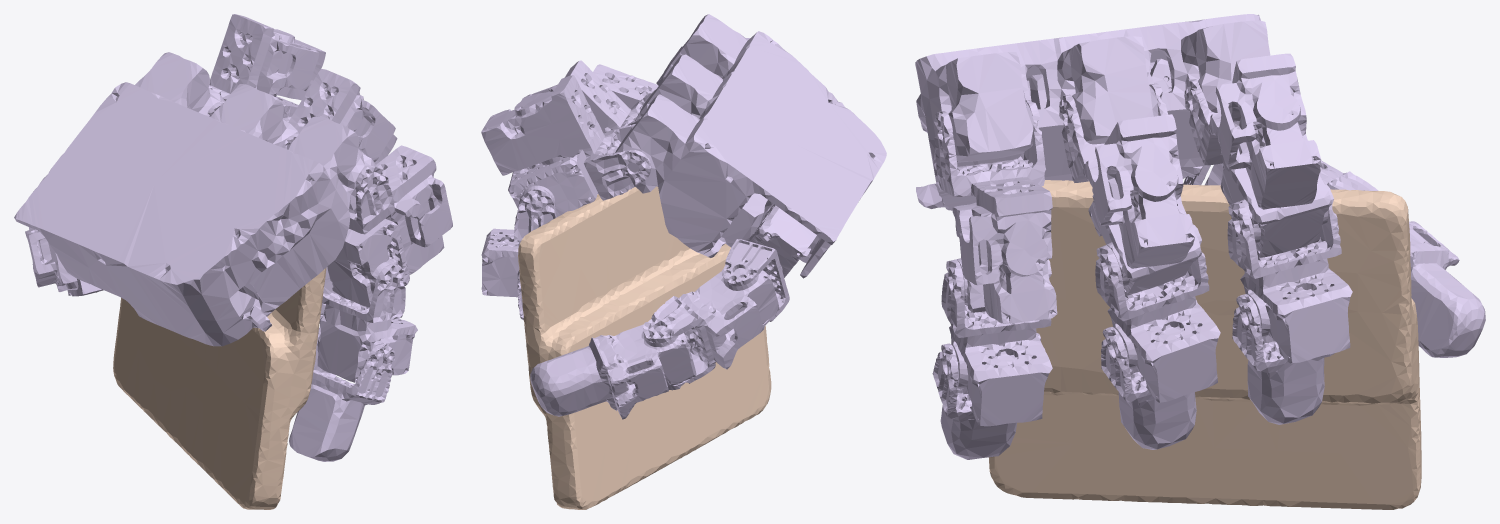
File: 376270dcf8c7b7-final.glb
The picture shows the model from 3 angles, left to right: view 1: azimuth 30°, elevation 25°; view 2: azimuth 150°, elevation 25°; view 3: azimuth 270°, elevation 25°; orthographic projection. The views are drawn at different scales.
Parts seen in each view (by area): view 1: LEAP_hand, world; view 2: LEAP_hand, world; view 3: LEAP_hand, world.
Boxes of the visible parts, bbox=[...] form: LEAP_hand: bbox=[14, 14, 452, 461]; world: bbox=[113, 267, 326, 509]; LEAP_hand: bbox=[481, 14, 886, 419]; world: bbox=[518, 186, 771, 509]; LEAP_hand: bbox=[915, 14, 1485, 459]; world: bbox=[988, 180, 1421, 509].
Size of the model in its own units: 0.1771 by 0.1887 by 0.1994.
